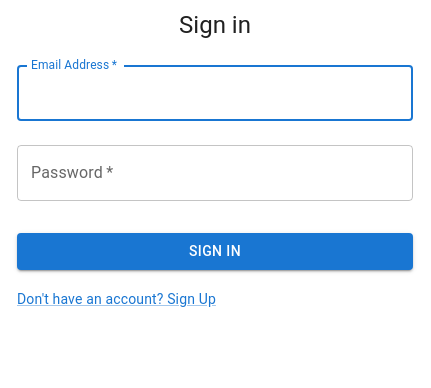
Login Page › displays error message on failed login
The width and height of the screenshot is (431, 388).
Type "wrong@example.com" into the field labelled "Email Address *" at point(215, 93), box left=17, top=65, right=413, bottom=121
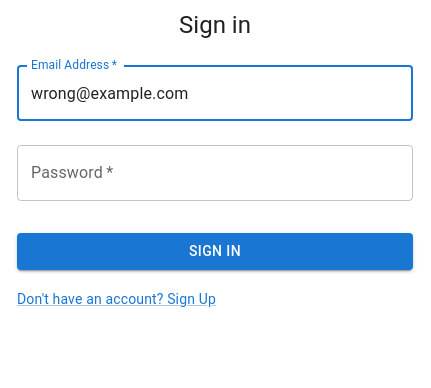
Type "wrongpassword" into the password field labelled "Password *" at point(215, 173), box left=17, top=145, right=413, bottom=201
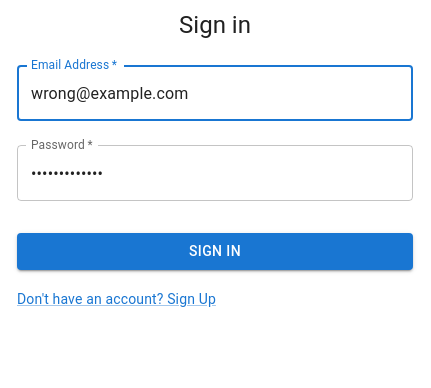
Click the button "Sign In" at point(215, 251), box left=17, top=233, right=413, bottom=270
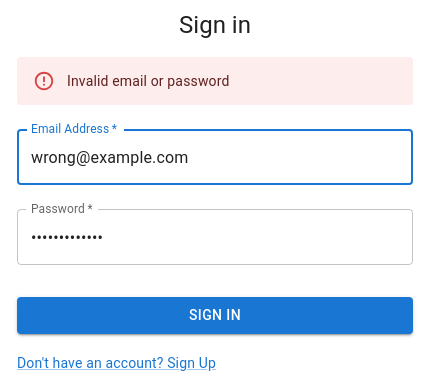
Check: the text "Invalid email or password" is shown, box left=67, top=73, right=230, bottom=89
